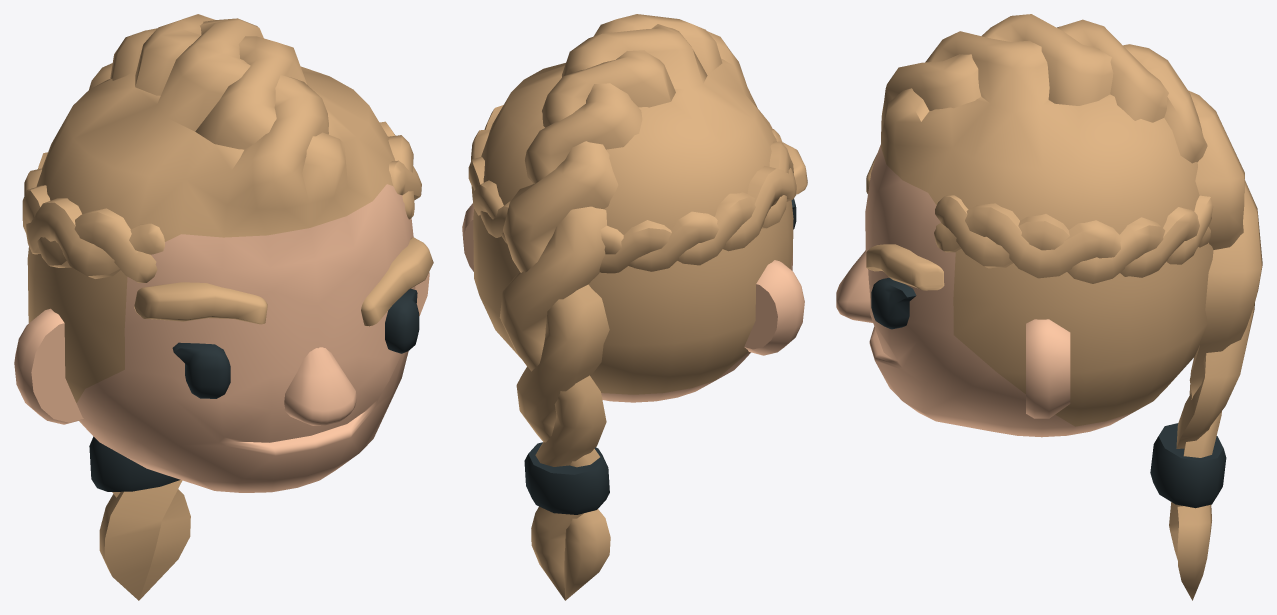
File: vikingFemaleHeadB.gltf.glb
3 views of the same model, side by side, from view 1: azimuth 30°, elevation 25°; view 2: azimuth 150°, elevation 25°; view 3: azimuth 270°, elevation 25° (orthographic). The views are drawn at different scales.
Visible parts, largest first — view 1: vikingFemaleHeadB; view 2: vikingFemaleHeadB; view 3: vikingFemaleHeadB.
Boxes of the visible parts, box(x1,y1,x2,y2) form: vikingFemaleHeadB: box(14, 14, 433, 600); vikingFemaleHeadB: box(462, 14, 807, 600); vikingFemaleHeadB: box(836, 14, 1262, 600).
Size of the model in its own units: 1.18 by 1.74 by 1.17.
